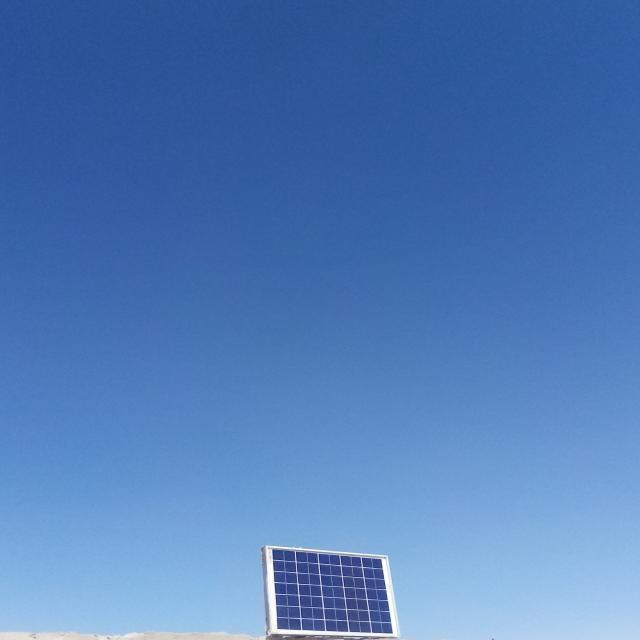Normal Solar Panel: (267, 547, 401, 636)
